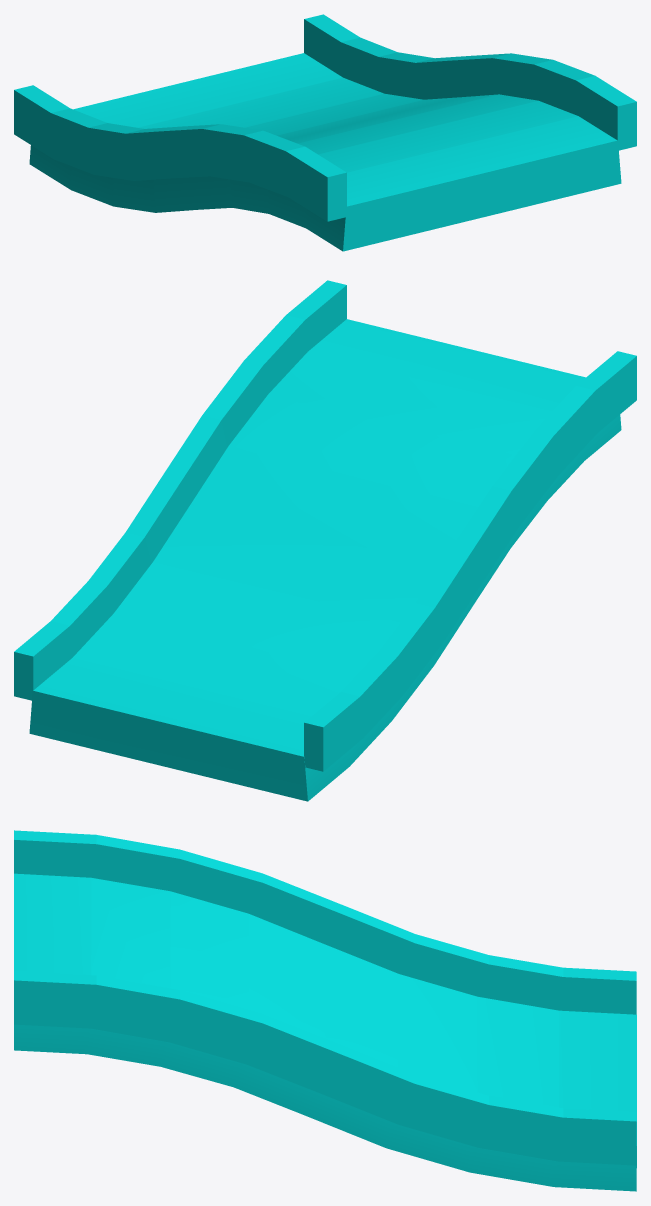
The model's file is SM_Env_Road_Highway_Ramp_01_Collision.fbx.
3 views of the same model, one above another, from view 1: azimuth 30°, elevation 25°; view 2: azimuth 150°, elevation 25°; view 3: azimuth 270°, elevation 25° (orthographic).
Visible parts, largest first — view 1: SM_Env_Road_Highway_Ramp_01_Collision; view 2: SM_Env_Road_Highway_Ramp_01_Collision; view 3: SM_Env_Road_Highway_Ramp_01_Collision.
Boxes of the visible parts, x1,y1,x2,y2 form: SM_Env_Road_Highway_Ramp_01_Collision: (14, 14, 636, 251); SM_Env_Road_Highway_Ramp_01_Collision: (14, 280, 636, 801); SM_Env_Road_Highway_Ramp_01_Collision: (14, 830, 636, 1191).
Size of the model in its own units: 1140 by 775 by 2001.
